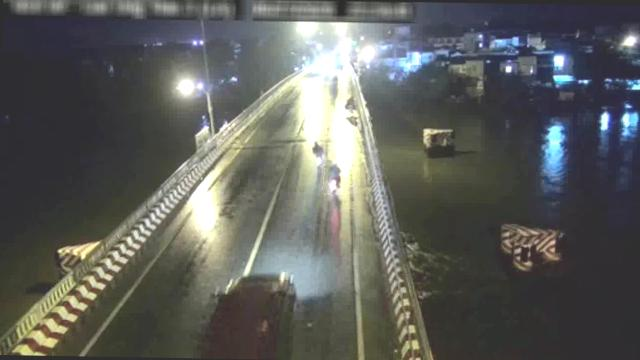Bike: (322, 160, 346, 194), (311, 138, 326, 166)
